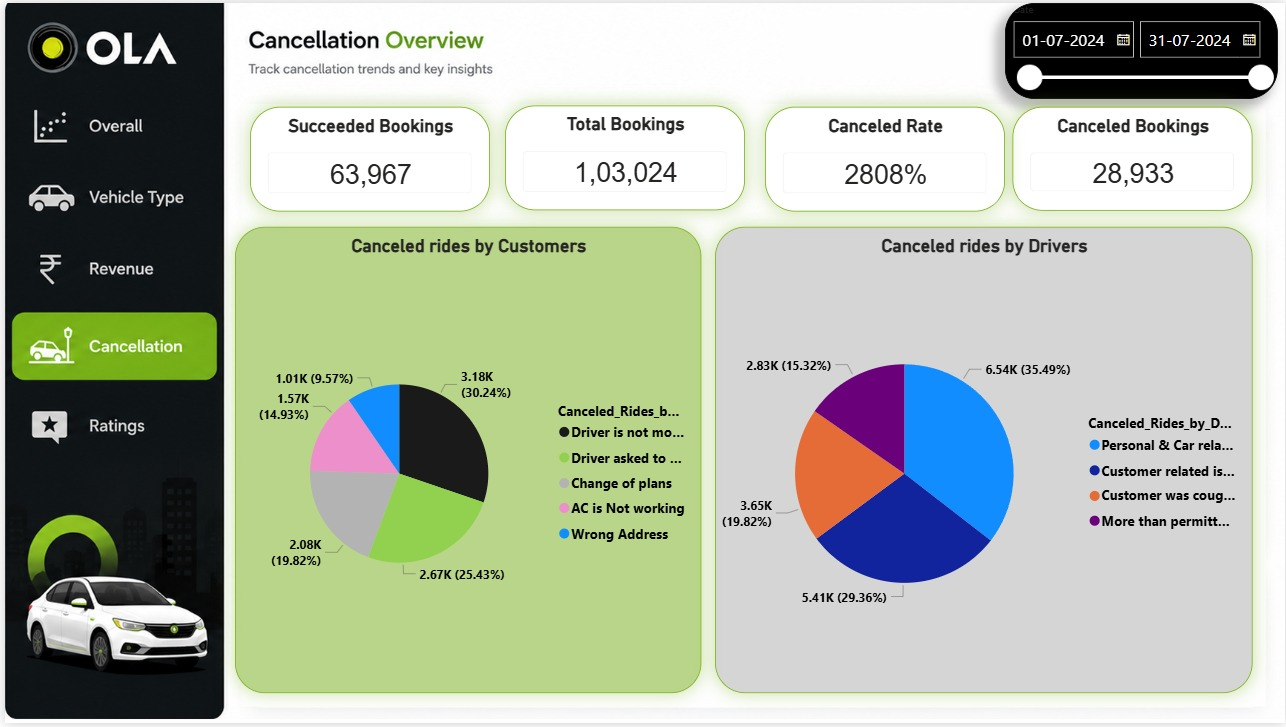

The page's visual inventory and layout, read from the dashboard file:
{"tool":"powerbi","page":{"name":"Cancellatin","canvas":[1280,720],"ordinal":3},"visuals":[{"type":"actionButton","box":[0,78.7,220,78],"z":1000},{"type":"actionButton","box":[0,161.3,220,62.7],"z":2000},{"type":"actionButton","box":[0,230.7,220,70],"z":3000},{"type":"actionButton","box":[0,379.3,220,94],"z":4000},{"type":"pieChart","title":"Canceled rides by Customers","fields":{"Category":["July.Canceled_Rides_by_Customer"],"Y":["CountNonNull(July.Canceled_Rides_by_Customer)"]},"box":[230,223.8,466.2,466.2],"z":5000},{"type":"pieChart","title":"Canceled rides by Drivers","fields":{"Category":["July.Canceled_Rides_by_Driver"],"Y":["CountNonNull(July.Canceled_Rides_by_Driver)"]},"box":[710,223.8,537.5,466.2],"z":6000},{"type":"slicer","title":"DATE","fields":{"Values":["July.Date"]},"box":[1000,0,272.5,96.2],"z":7000},{"type":"cardVisual","title":"Total Bookings","fields":{"Data":["CountNonNull(July.Booking_ID)"]},"box":[500,102.5,240,105],"z":8000},{"type":"cardVisual","title":"Succeeded Bookings","fields":{"Data":["CountNonNull(July.Booking_ID)"]},"box":[245,103.8,240,105],"z":9000},{"type":"cardVisual","title":"Canceled Bookings","fields":{"Data":["CountNonNull(July.Booking_ID)"]},"box":[1007.5,103.8,240,103.8],"z":10000},{"type":"cardVisual","title":"Canceled Rate","fields":{"Data":["July.Canceled_percentage"]},"box":[760,103.8,240,105],"z":11000}]}

Visuals, with their boxes in screenshot pixels (x1, y1, x2, y2), scaled from the page's 1280x720 canvas onto the 1286x727 screenshot:
actionButton: region(0, 79, 221, 158)
actionButton: region(0, 163, 221, 226)
actionButton: region(0, 233, 221, 304)
actionButton: region(0, 383, 221, 478)
"Canceled rides by Customers" pieChart: region(231, 226, 699, 697)
"Canceled rides by Drivers" pieChart: region(713, 226, 1253, 697)
"DATE" slicer: region(1005, 0, 1278, 97)
"Total Bookings" cardVisual: region(502, 103, 743, 210)
"Succeeded Bookings" cardVisual: region(246, 105, 487, 211)
"Canceled Bookings" cardVisual: region(1012, 105, 1253, 210)
"Canceled Rate" cardVisual: region(764, 105, 1005, 211)
